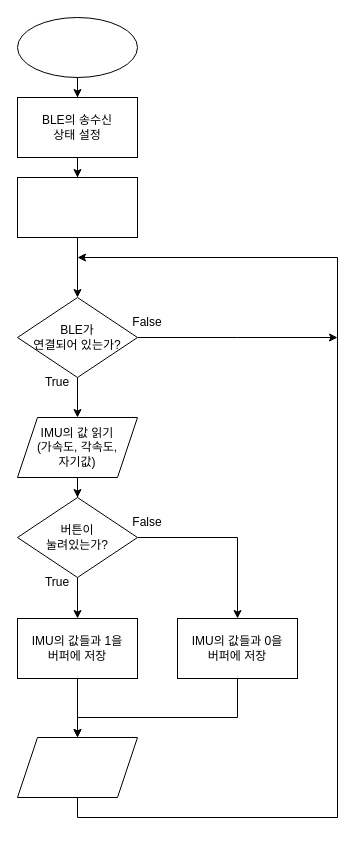
Image size: 363x843. Some labels were removed from this diagram. Each missing label, with the centre of its shape:
"BLE의 advertise 모드 적용" goes at point 77,207.
"버퍼에 저장된 값 BLE로 송신" goes at point 77,767.
"시작" goes at point 77,47.
